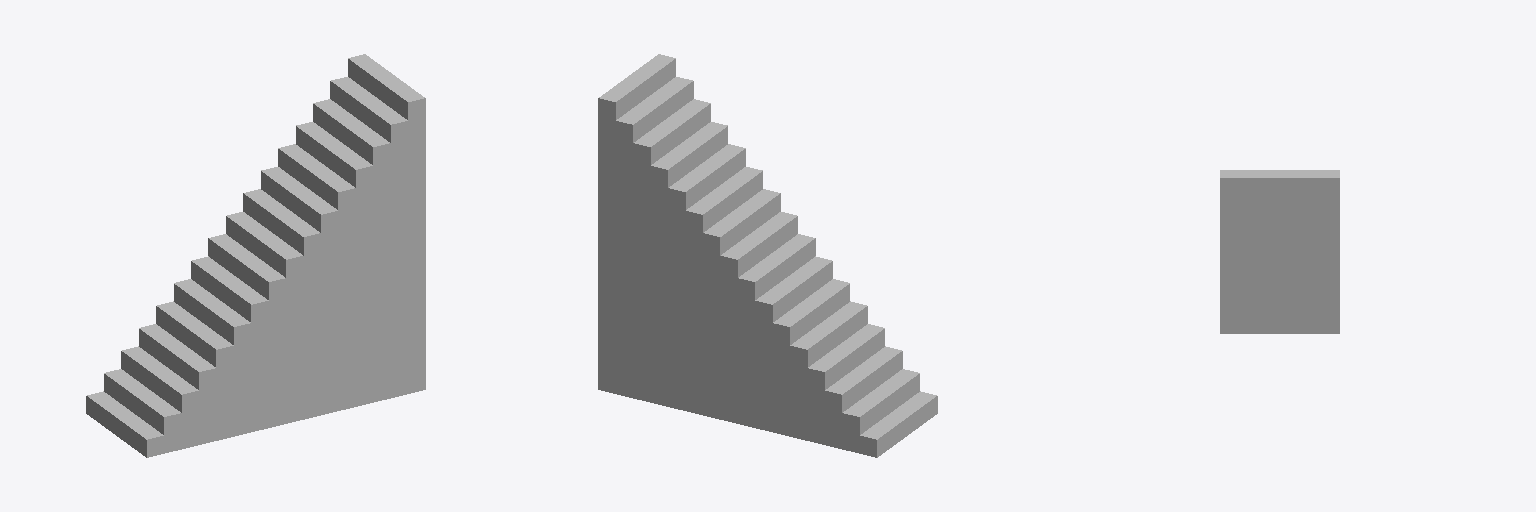
Rendered from stair1.obj.
3 renders of one model, left to right at view 1: azimuth 30°, elevation 25°; view 2: azimuth 150°, elevation 25°; view 3: azimuth 270°, elevation 25°, orthographic.
Parts seen in each view (by area): view 1: model; view 2: model; view 3: model.
Part boxes in pixels (bbox=[...]): model: bbox=[86, 54, 425, 457]; model: bbox=[598, 54, 937, 457]; model: bbox=[1220, 170, 1339, 333].
Bounding box in the file's own units: 1 × 1 × 0.375.